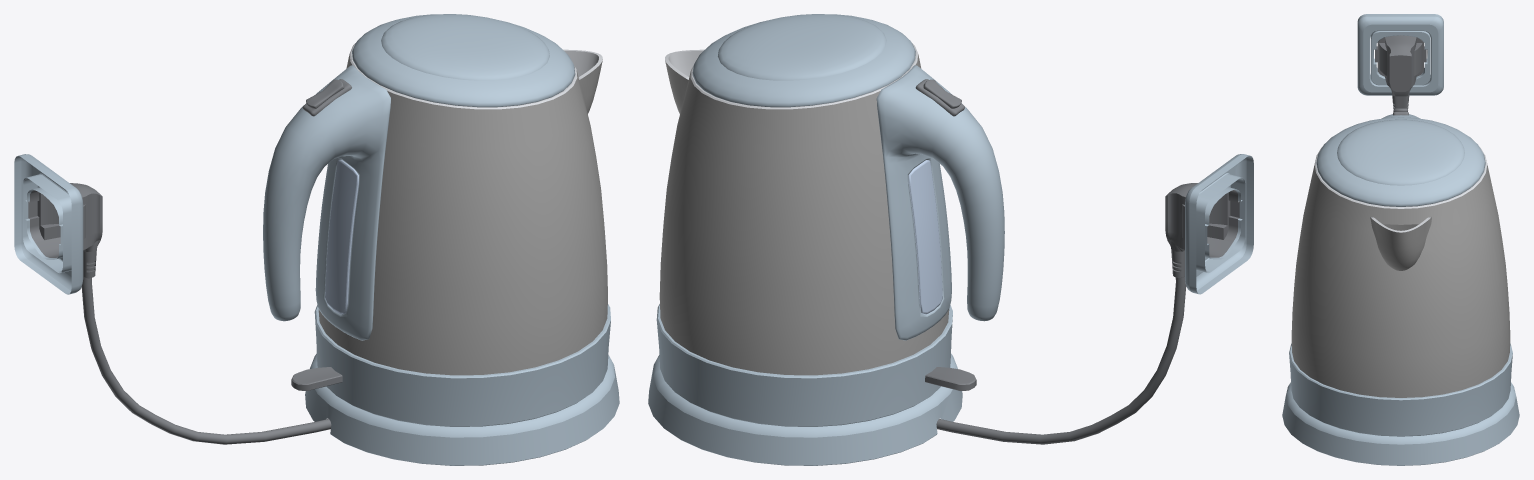
Rendered from Kettle.glb.
3 renders of one model, left to right at view 1: azimuth 30°, elevation 25°; view 2: azimuth 150°, elevation 25°; view 3: azimuth 270°, elevation 25°, orthographic. The views are drawn at different scales.
Visible parts, largest first — view 1: Kettle; view 2: Kettle; view 3: Kettle.
Part boxes in pixels (left/top/right/bottom): Kettle: left=14, top=14, right=619, bottom=465; Kettle: left=648, top=14, right=1253, bottom=465; Kettle: left=1282, top=14, right=1519, bottom=465.
Size of the model in its own units: 0.4768 by 0.2968 by 0.2333.
Materials: 3 (2 with a texture image).
